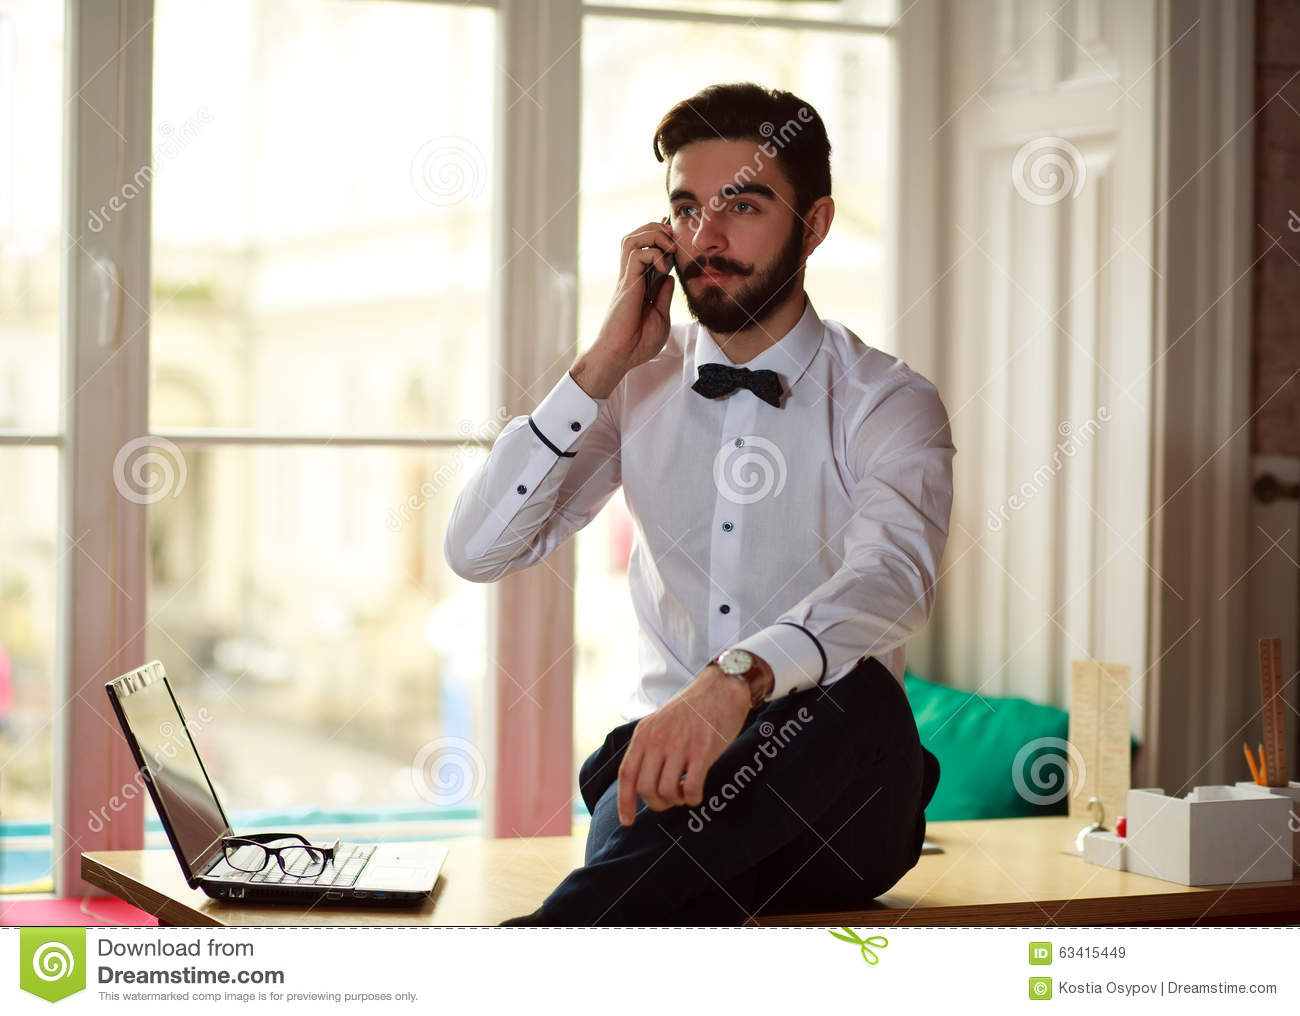phone: (648, 213, 678, 314)
talk: (605, 174, 773, 368)
